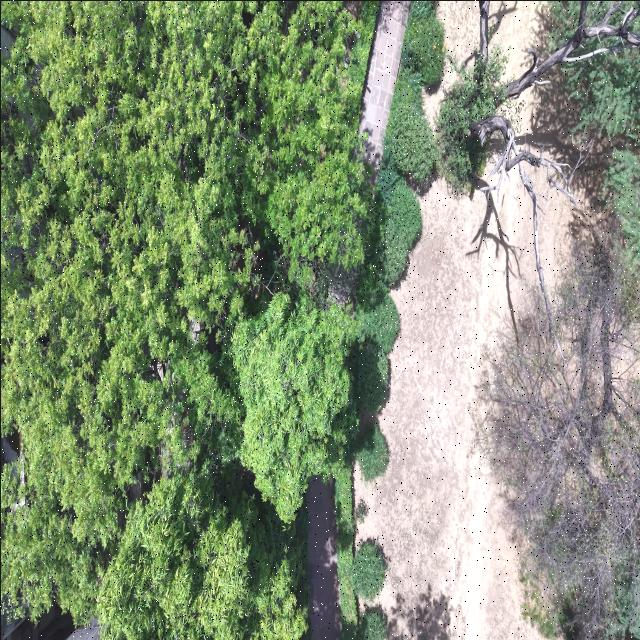DRY_AREA: (355, 169, 540, 639), (359, 1, 409, 180), (359, 1, 409, 179), (306, 476, 340, 639)
VEGETATION_TREE: (1, 1, 536, 639), (1, 1, 375, 639), (352, 1, 638, 637), (437, 1, 639, 639), (477, 34, 639, 639), (357, 3, 639, 315), (477, 151, 639, 638), (479, 153, 639, 637), (437, 1, 639, 328), (477, 247, 639, 638), (437, 1, 639, 195), (435, 1, 639, 193), (98, 469, 305, 639), (350, 38, 442, 412), (354, 60, 436, 412), (232, 293, 356, 521), (562, 8, 639, 321), (562, 40, 639, 301), (351, 164, 421, 412), (435, 46, 519, 196), (332, 423, 386, 638), (332, 424, 386, 638), (382, 1, 443, 182), (350, 196, 398, 412), (436, 48, 506, 194), (561, 34, 639, 145), (329, 362, 357, 638), (382, 65, 436, 181), (332, 457, 357, 637), (605, 150, 639, 278), (381, 176, 421, 283), (401, 1, 443, 86), (519, 562, 563, 638), (349, 1, 378, 83), (356, 343, 389, 413), (360, 294, 399, 353), (351, 540, 385, 601), (354, 422, 388, 481), (377, 138, 399, 205), (356, 609, 387, 639), (354, 499, 367, 523)
